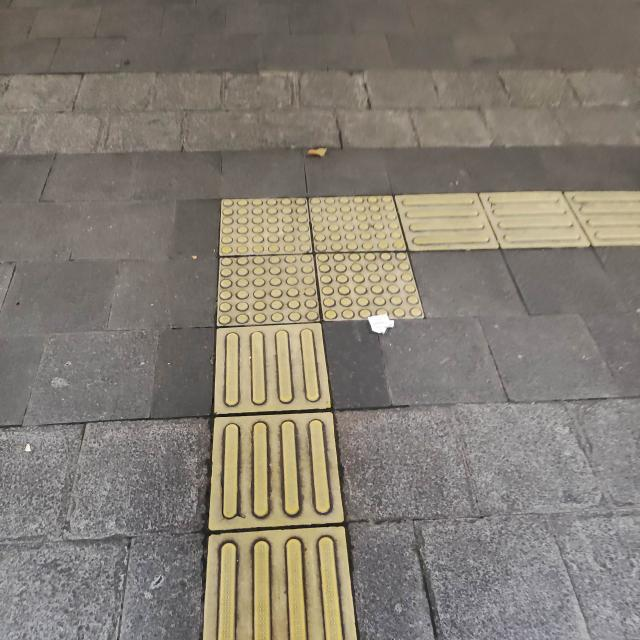kanan: (164, 153, 567, 370)
